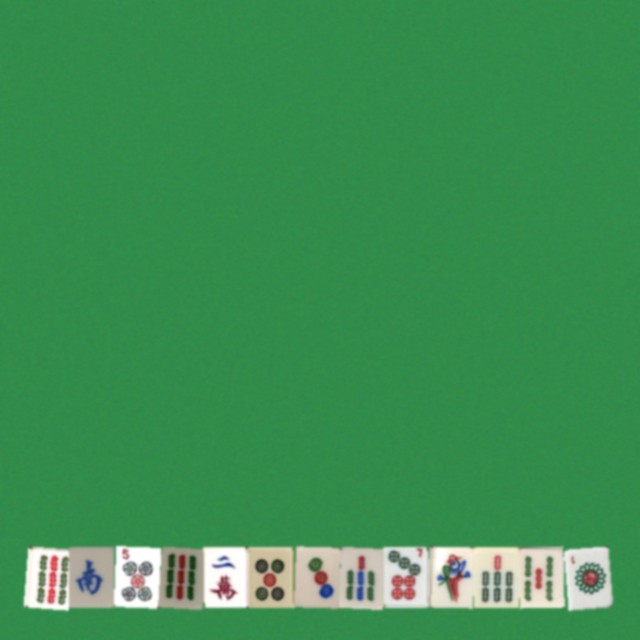tile: (23, 546, 68, 607), (68, 546, 113, 607), (113, 546, 158, 607), (158, 546, 203, 607), (203, 546, 248, 607), (248, 546, 293, 607), (293, 546, 338, 607), (338, 546, 383, 607), (383, 546, 428, 607), (428, 546, 473, 607), (473, 546, 518, 607), (518, 546, 563, 607), (563, 546, 608, 607)
